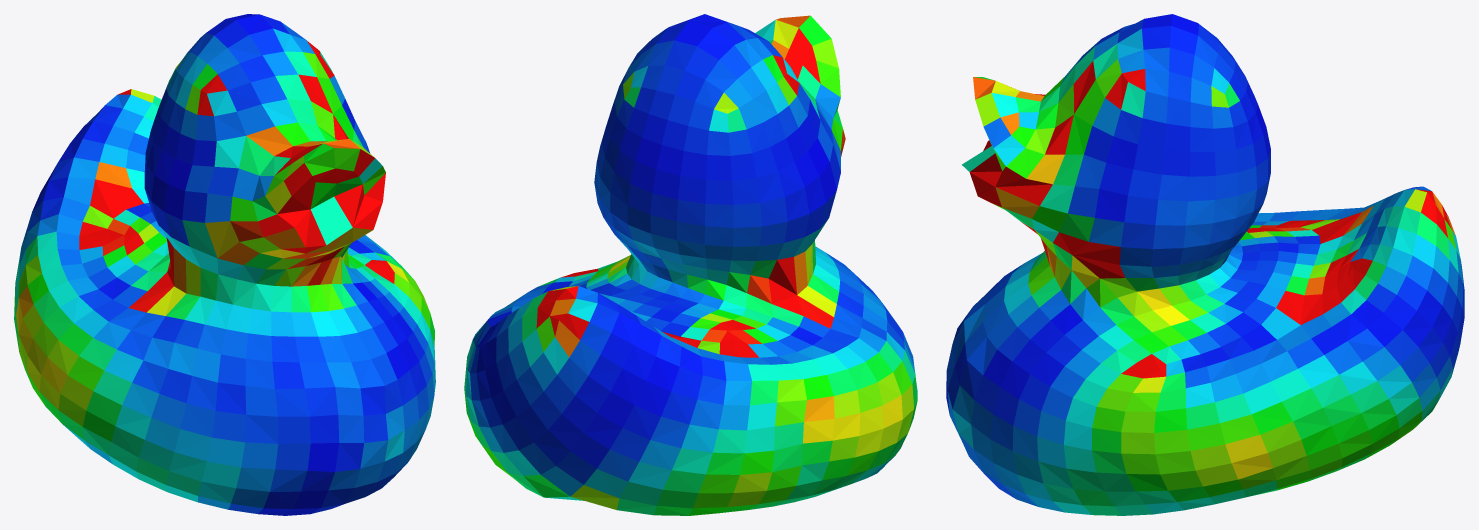
The model's file is duck_no_opt_quality.obj.
The picture shows the model from 3 angles, left to right: view 1: azimuth 30°, elevation 25°; view 2: azimuth 150°, elevation 25°; view 3: azimuth 270°, elevation 25°; orthographic projection. The views are drawn at different scales.
Bounding box in the file's own units: 70.67 × 80.08 × 83.09.
